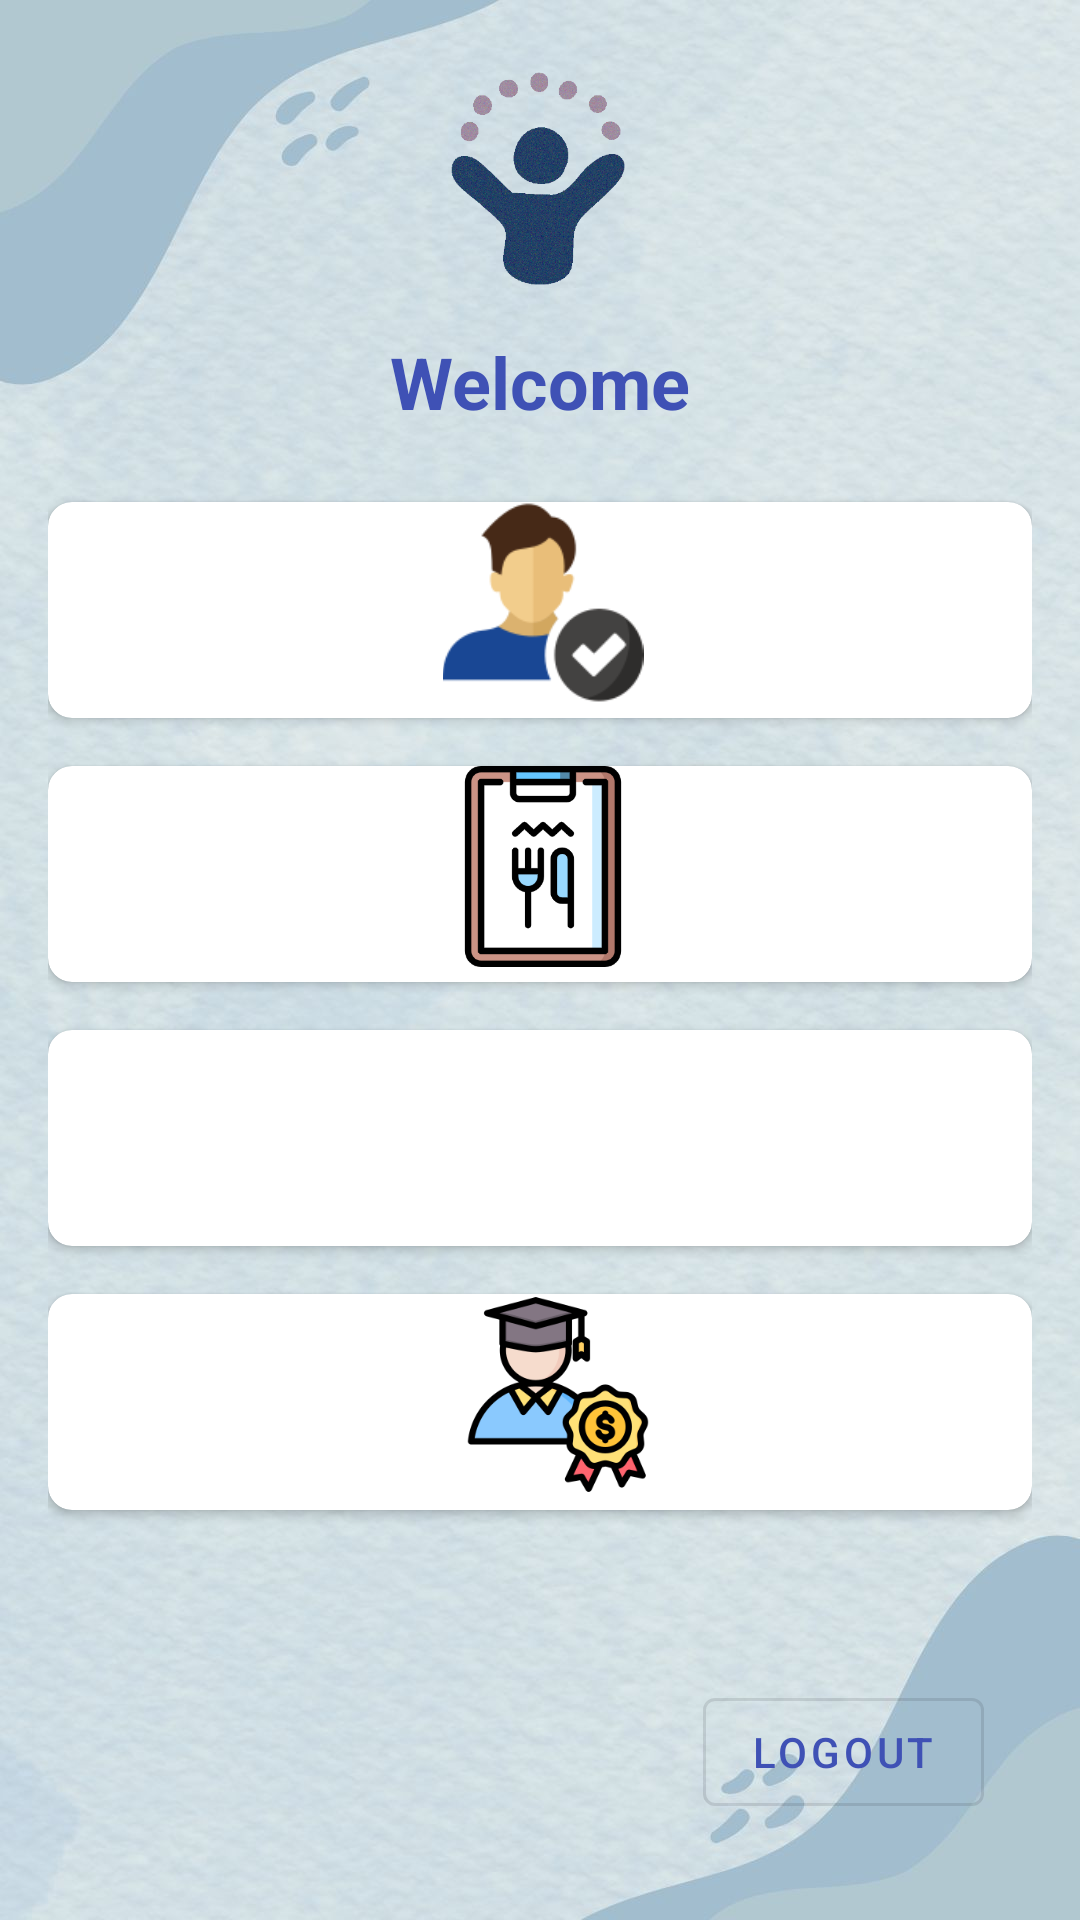

Named icons in this screenshot (1080*1920) and their centers, point (x, y):
attendanceicon: point (543, 602)
scholarshipicon: point (558, 1394)
